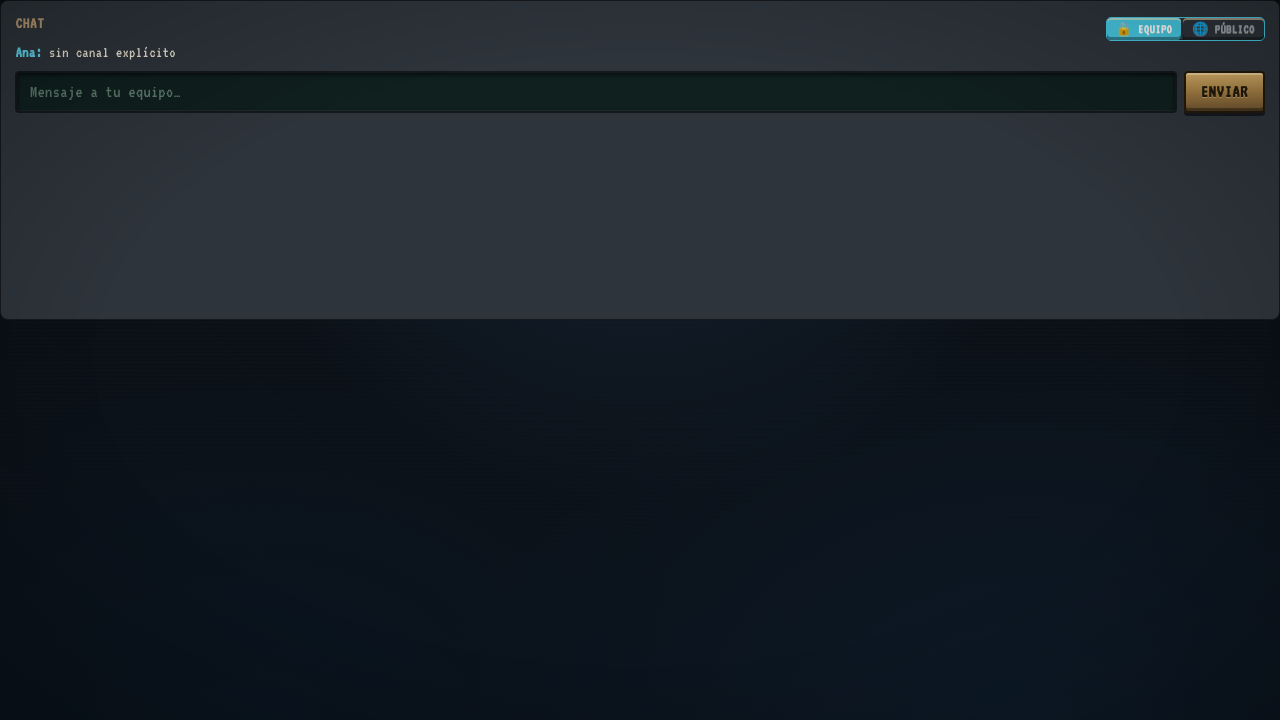
Chat › un mensaje sin canal se trata como "equipo" por defecto
Check: the text "sin canal explícito" is shown, box [49,44,176,60]
Click the tab "🌐 Público" at (1223, 29), box [1183,18,1264,40]
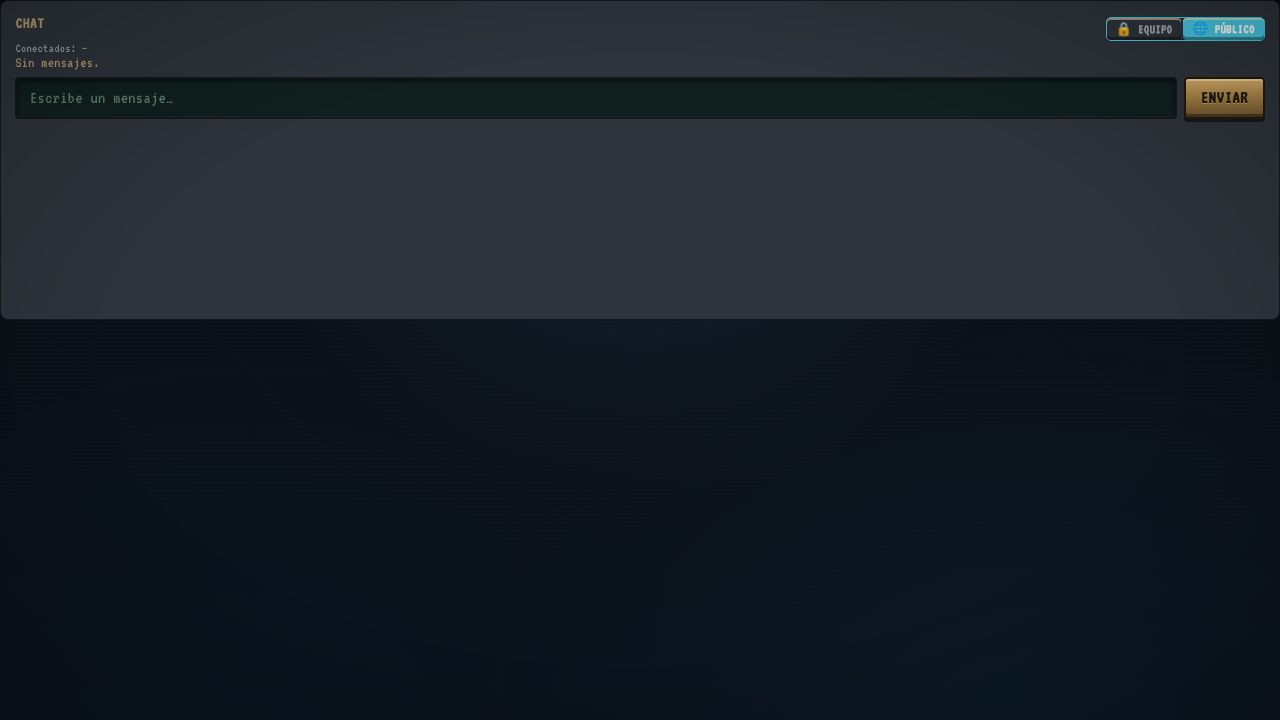
Check: the text "sin canal explícito" is gone
